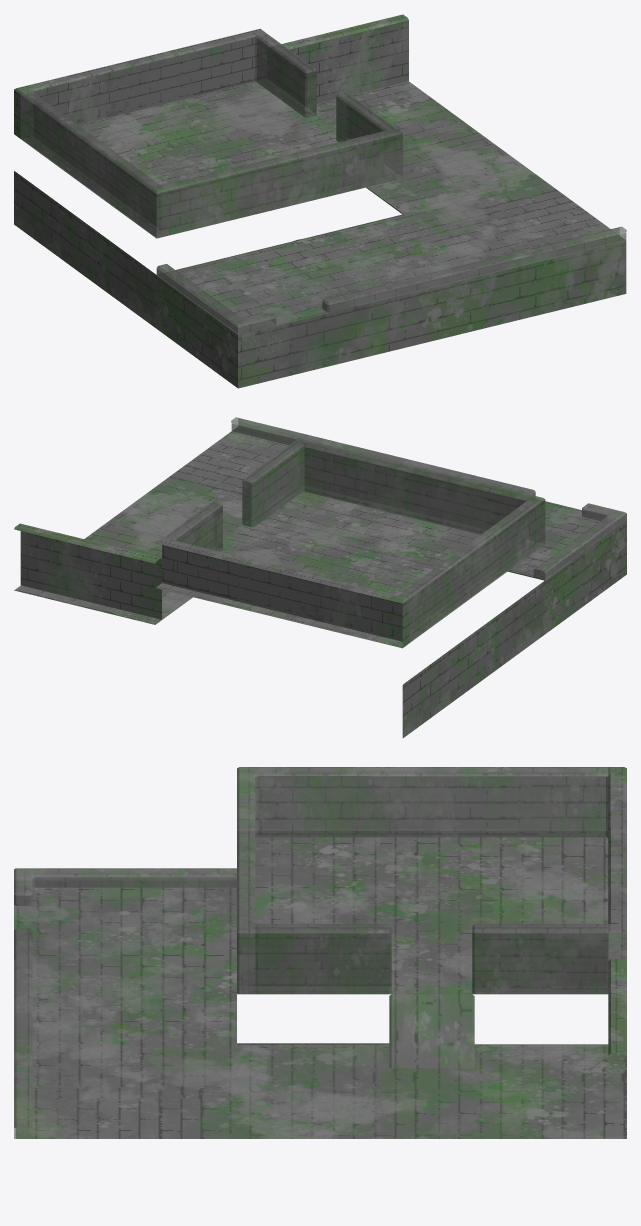
File: lvl_1-cnk_0.obj
3 renders of one model, top to bottom at view 1: azimuth 30°, elevation 25°; view 2: azimuth 150°, elevation 25°; view 3: azimuth 270°, elevation 25°, orthographic. The views are drawn at different scales.
Parts seen in each view (by area): view 1: Cube.054, Cube.055, Cube.057, Cube.058, Cube.056; view 2: Cube.054, Cube.055, Cube.057, Cube.058, Cube.056; view 3: Cube.054, Cube.055, Cube.056, Cube.058, Cube.057.
Part boxes in pixels (x1=…): Cube.054: x1=14, y1=81, x2=626, y2=388; Cube.055: x1=14, y1=28, x2=402, y2=238; Cube.057: x1=281, y1=14, x2=408, y2=103; Cube.058: x1=322, y1=226, x2=626, y2=312; Cube.056: x1=156, y1=264, x2=276, y2=334; Cube.054: x1=14, y1=427, x2=626, y2=738; Cube.055: x1=156, y1=438, x2=545, y2=648; Cube.057: x1=14, y1=523, x2=161, y2=619; Cube.058: x1=231, y1=417, x2=535, y2=495; Cube.056: x1=533, y1=503, x2=626, y2=580; Cube.054: x1=14, y1=830, x2=626, y2=1138; Cube.055: x1=237, y1=767, x2=626, y2=994; Cube.056: x1=14, y1=868, x2=236, y2=905; Cube.058: x1=14, y1=928, x2=32, y2=1138; Cube.057: x1=608, y1=959, x2=626, y2=1054.
Bounding box in the file's own units: 99.4 × 33.28 × 99.
